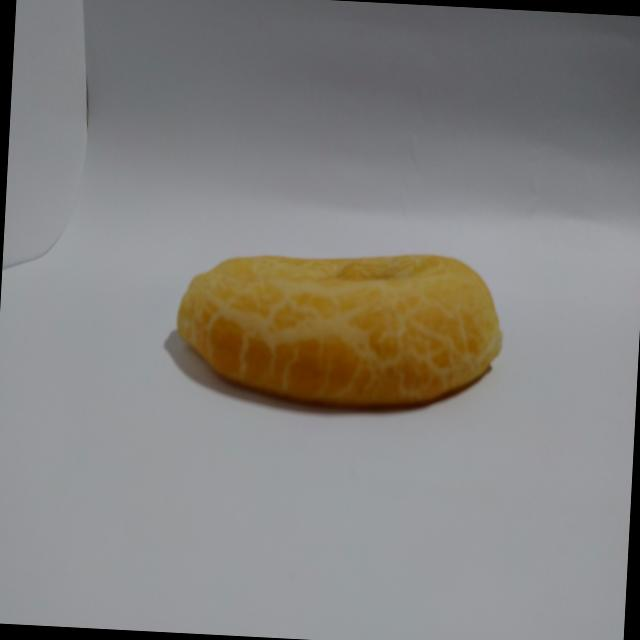Chipa: (164, 231, 512, 434)
